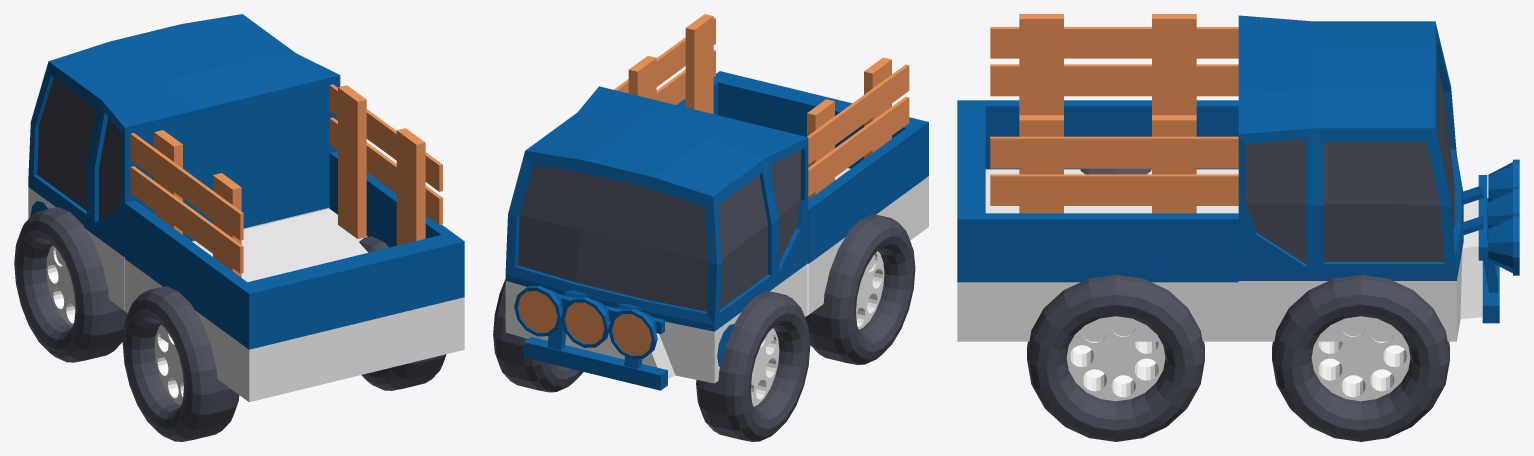
The model's file is FlatBedTruck.fbx.
3 renders of one model, left to right at view 1: azimuth 30°, elevation 25°; view 2: azimuth 150°, elevation 25°; view 3: azimuth 270°, elevation 25°, orthographic. The views are drawn at different scales.
Visible parts, largest first — view 1: (0.0, 0.0, 0.0) (×5); view 2: (0.0, 0.0, 0.0) (×6); view 3: (0.0, 0.0, 0.0) (×5).
Boxes of the visible parts, bbox=[...] form: (0.0, 0.0, 0.0) (×5): bbox=[14, 14, 464, 441]; (0.0, 0.0, 0.0) (×6): bbox=[493, 14, 928, 441]; (0.0, 0.0, 0.0) (×5): bbox=[957, 14, 1519, 441].
Bounding box in the file's own units: 12.1 × 12.13 × 19.98.
